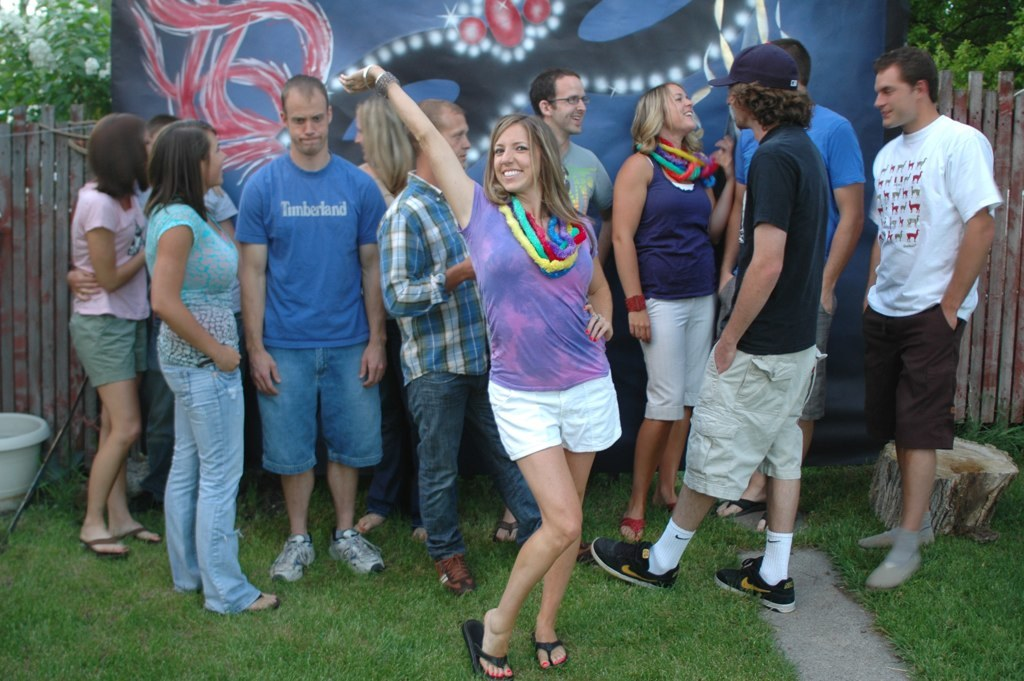Footwear: (589, 537, 676, 593), (736, 551, 799, 624), (867, 529, 921, 588), (461, 622, 514, 680), (332, 528, 387, 579), (861, 508, 936, 545), (270, 533, 316, 585), (433, 555, 477, 596), (82, 536, 131, 557), (530, 643, 567, 670), (126, 524, 161, 545), (726, 500, 770, 515), (492, 521, 518, 544), (618, 517, 646, 533)
